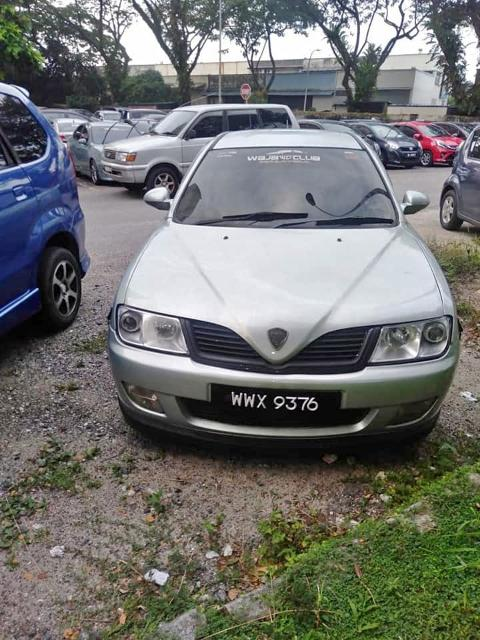License_Plate: (207, 384, 349, 424)
car: (103, 122, 466, 453)
